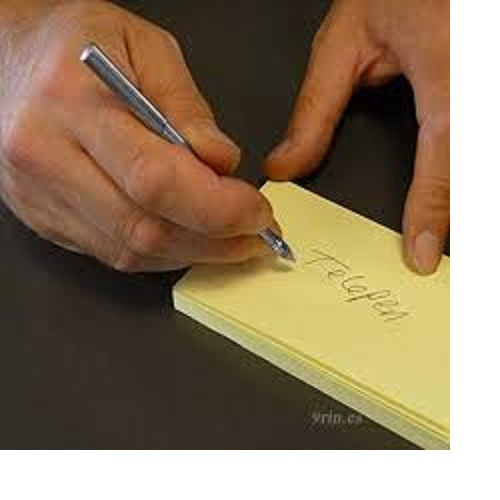Boligrafo: (77, 42, 298, 264)
